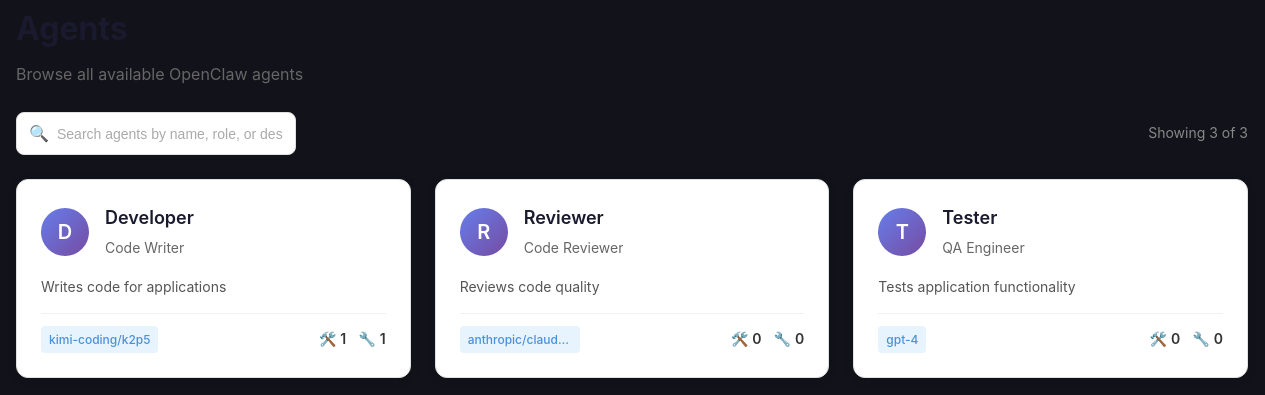
Test: AgentsPage › filters agents by description (case-insensitive)
Type "quality" into the field at (170, 134), box [57, 126, 283, 142]
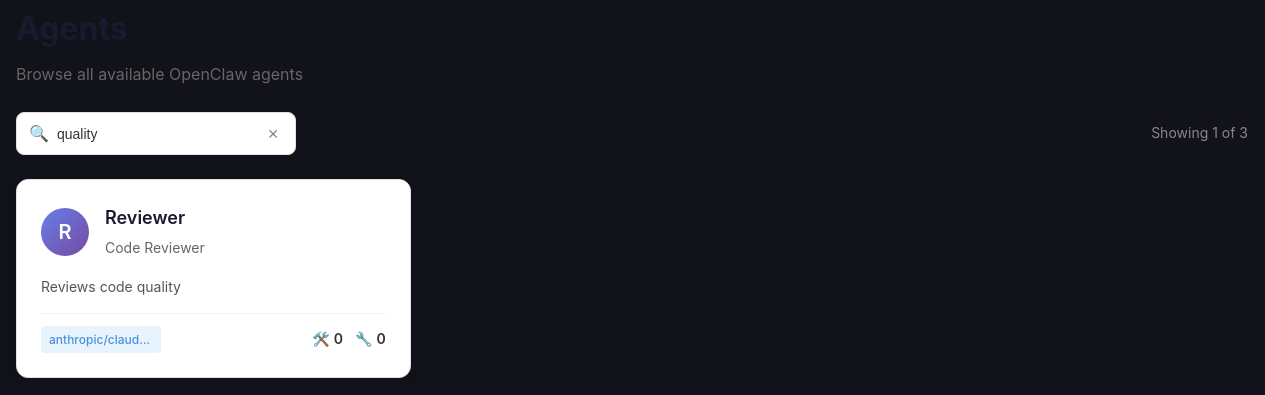
Expected: the heading "Reviewer" is shown, [105, 207, 185, 228]
Result: the button "Developer" is gone
Result: the button "Tester" is gone
